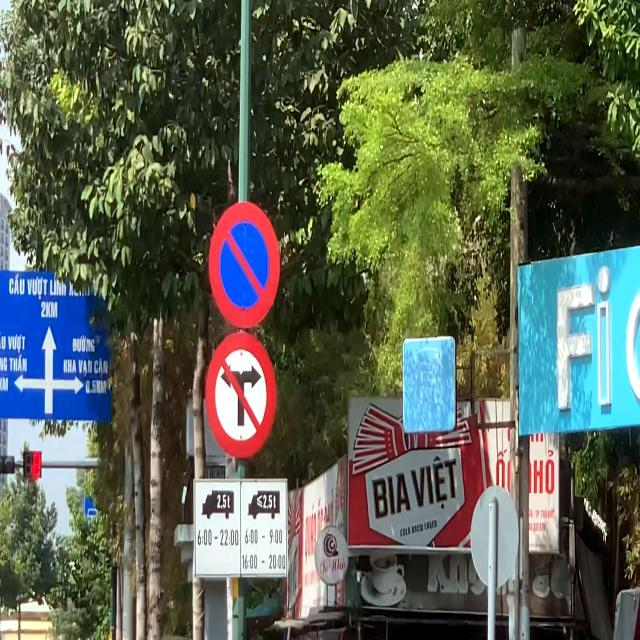Cam do xe: (207, 201, 281, 330)
